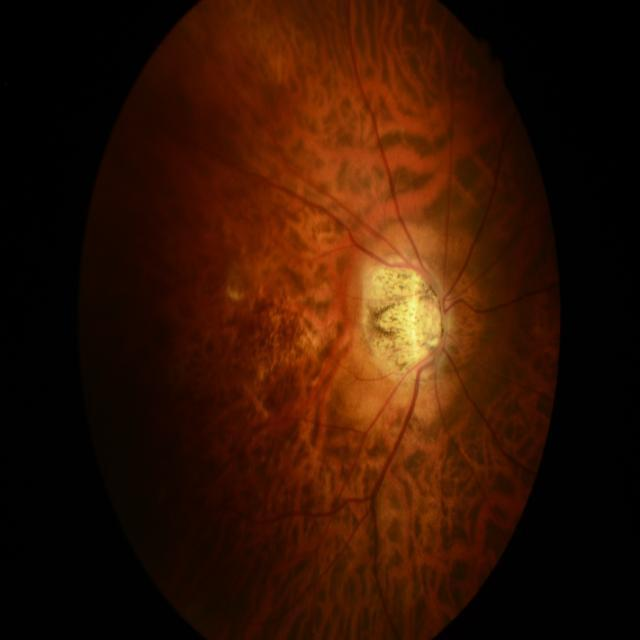cup: (408, 261, 443, 366)
disk: (406, 259, 450, 381)
